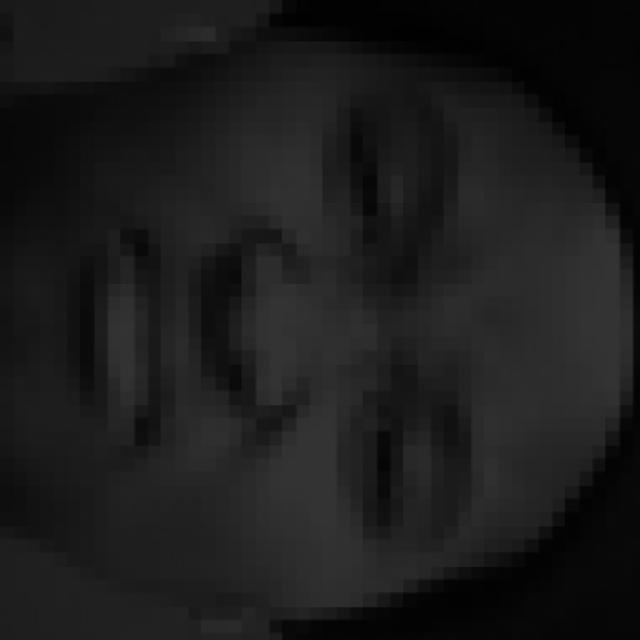Disgust: (25, 52, 542, 627)
